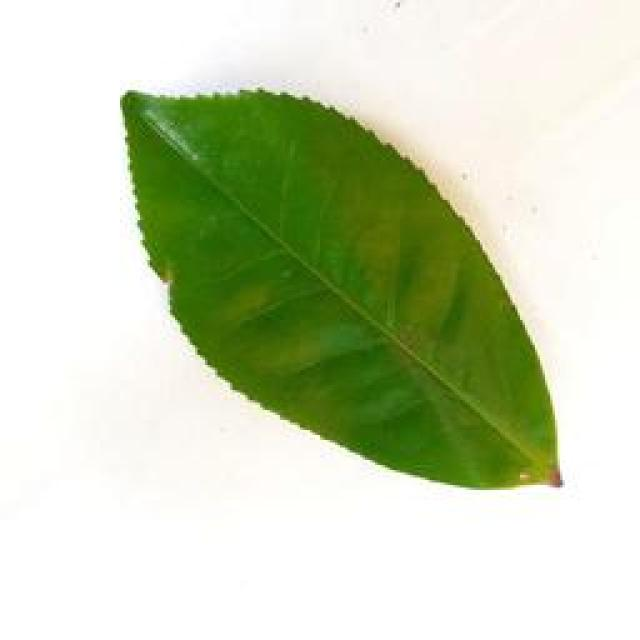Healthy: (120, 91, 569, 505)
